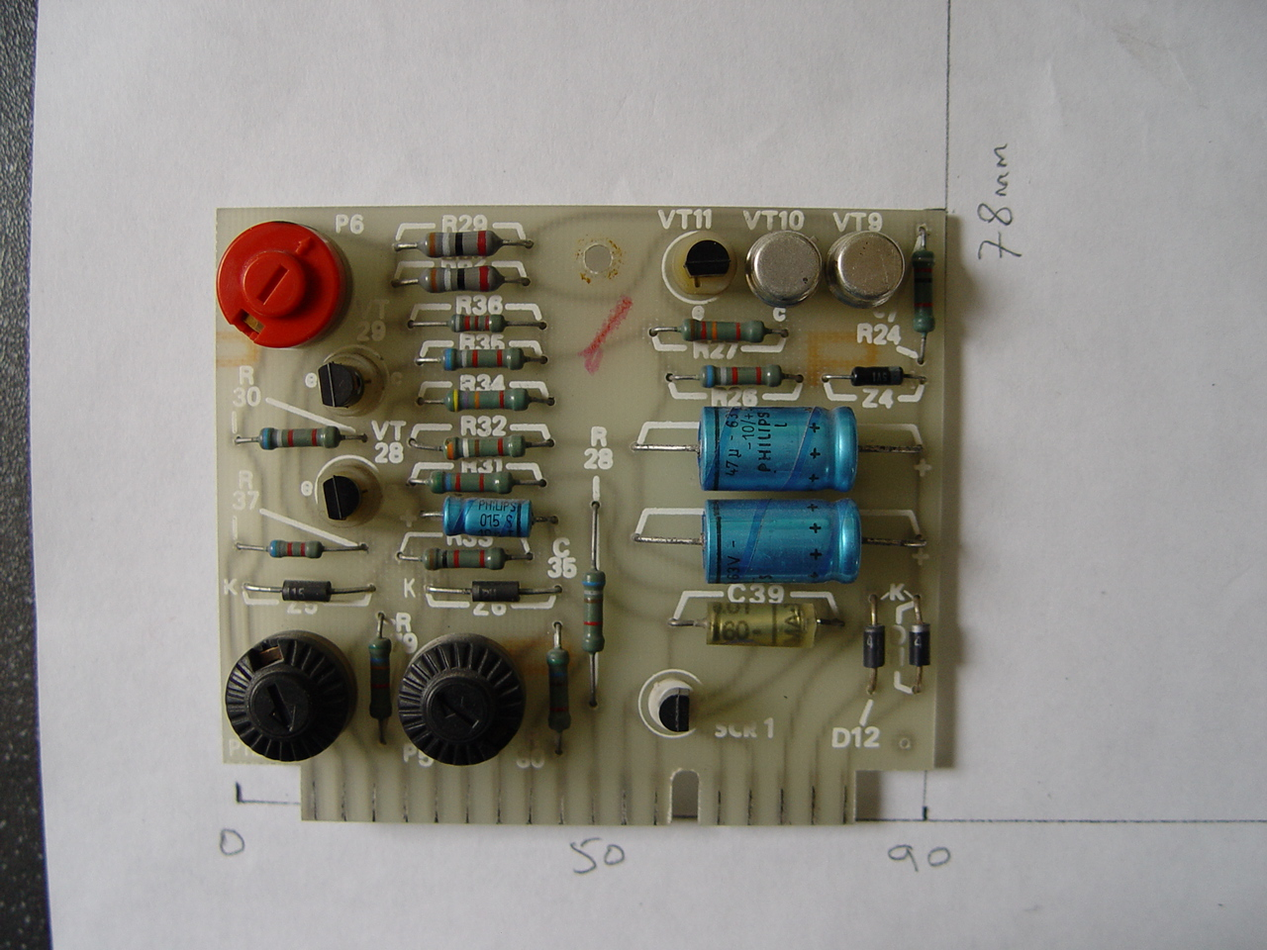Capacitor: (697, 594, 825, 655)
Diode: (855, 620, 894, 674), (902, 616, 933, 672)
Potentiometer: (222, 620, 358, 767), (397, 627, 526, 769), (216, 218, 350, 352)
Resistor: (673, 311, 782, 348), (574, 556, 611, 664), (438, 337, 537, 376), (688, 359, 788, 393), (414, 543, 514, 577), (412, 225, 505, 261), (410, 264, 507, 298), (438, 430, 531, 463), (419, 467, 527, 495), (442, 382, 537, 411), (256, 423, 350, 452), (261, 538, 332, 569), (444, 307, 511, 339)
